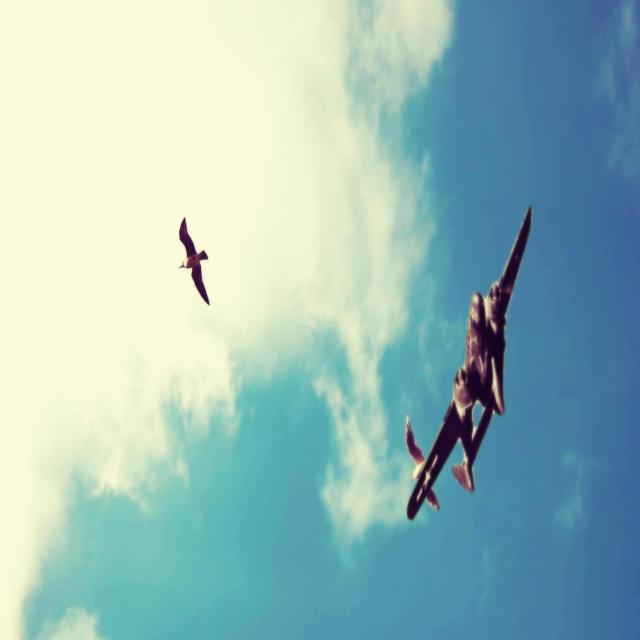airplane: (405, 204, 532, 520)
